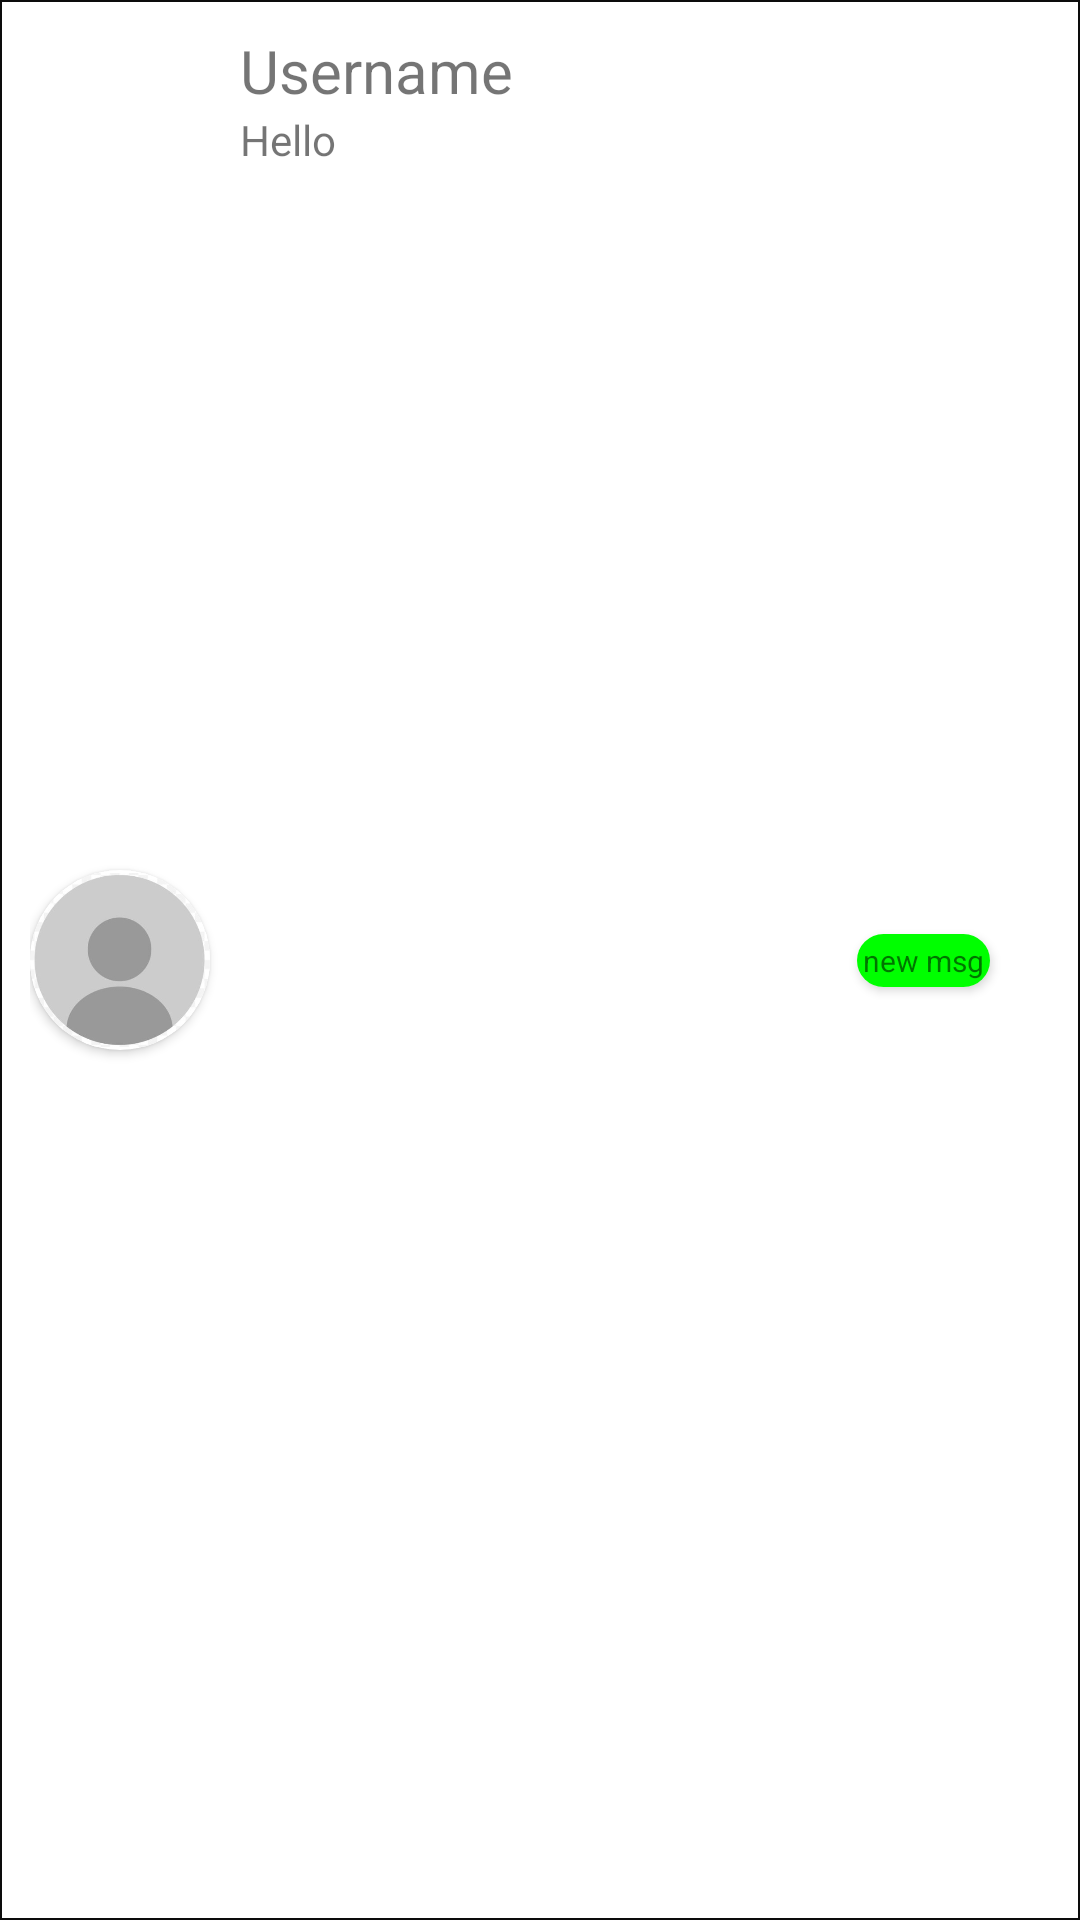

Where icons sit on this 1080px×1920px app screen, as (x1, y1, x2, y2):
myprofile: (30, 875, 205, 1050)
